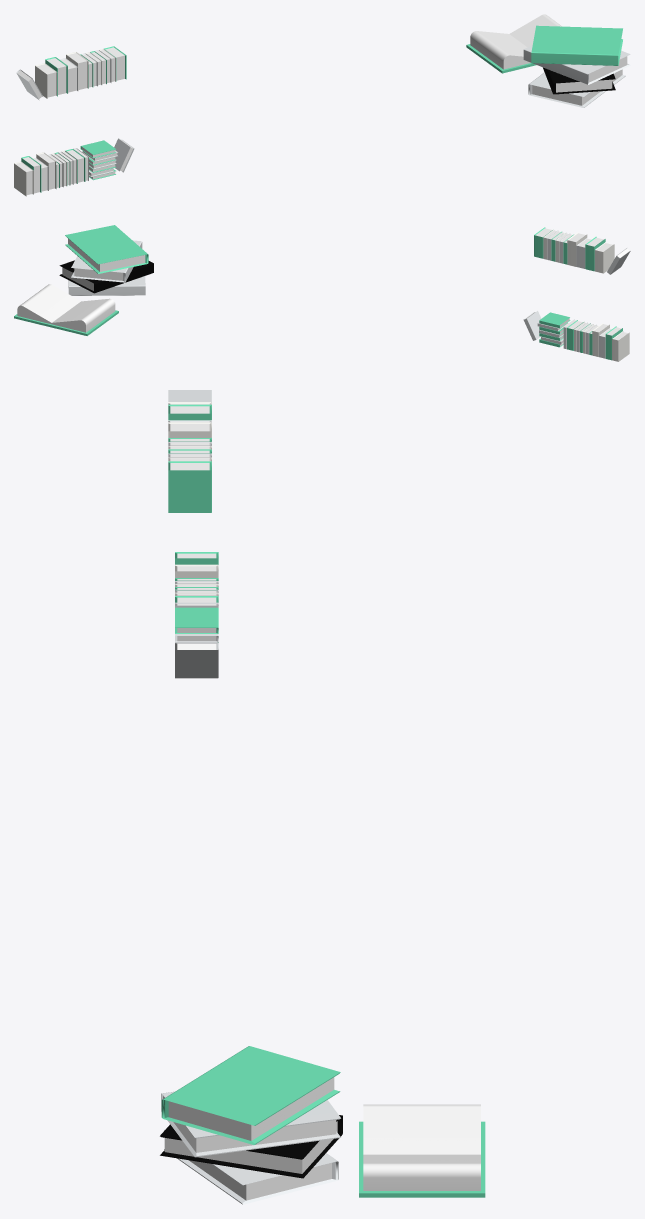
The model's file is books.fbx.
The picture shows the model from 3 angles, top to bottom: view 1: azimuth 30°, elevation 25°; view 2: azimuth 150°, elevation 25°; view 3: azimuth 270°, elevation 25°; orthographic projection. The views are drawn at different scales.
Visible parts, largest first — view 1: first_aid_kit44, pCube13, first_aid_kit43, first_aid_kit18, first_aid_kit42, first_aid_kit30, first_aid_kit49, first_aid_kit29, first_aid_kit27, first_aid_kit46, first_aid_kit62, first_aid_kit19 (+5 smaller); view 2: pCube13, first_aid_kit44, first_aid_kit42, first_aid_kit18, first_aid_kit43, first_aid_kit30, first_aid_kit49, first_aid_kit27, first_aid_kit29, first_aid_kit46, first_aid_kit62, first_aid_kit19 (+5 smaller); view 3: pCube13, first_aid_kit44, first_aid_kit42, first_aid_kit43, first_aid_kit18, first_aid_kit19, first_aid_kit46, first_aid_kit62.
Part boxes in pixels (x1=…): first_aid_kit44: x1=531, y1=25, x2=622, y2=65; pCube13: x1=466, y1=14, x2=561, y2=73; first_aid_kit43: x1=523, y1=45, x2=630, y2=84; first_aid_kit18: x1=528, y1=69, x2=625, y2=107; first_aid_kit42: x1=543, y1=67, x2=615, y2=94; first_aid_kit30: x1=35, y1=63, x2=57, y2=98; first_aid_kit49: x1=14, y1=161, x2=33, y2=196; first_aid_kit29: x1=45, y1=57, x2=67, y2=96; first_aid_kit27: x1=66, y1=52, x2=88, y2=91; first_aid_kit46: x1=114, y1=138, x2=134, y2=172; first_aid_kit62: x1=80, y1=140, x2=116, y2=158; first_aid_kit19: x1=104, y1=46, x2=126, y2=81; pCube13: x1=14, y1=284, x2=118, y2=335; first_aid_kit44: x1=65, y1=225, x2=148, y2=273; first_aid_kit42: x1=59, y1=260, x2=153, y2=293; first_aid_kit18: x1=68, y1=276, x2=145, y2=295; first_aid_kit43: x1=71, y1=240, x2=142, y2=282; first_aid_kit30: x1=594, y1=242, x2=614, y2=273; first_aid_kit49: x1=612, y1=331, x2=629, y2=361; first_aid_kit27: x1=567, y1=232, x2=587, y2=266; first_aid_kit29: x1=585, y1=236, x2=605, y2=271; first_aid_kit46: x1=523, y1=311, x2=541, y2=340; first_aid_kit62: x1=539, y1=312, x2=570, y2=328; first_aid_kit19: x1=534, y1=227, x2=552, y2=258; pCube13: x1=359, y1=1104, x2=485, y2=1197; first_aid_kit44: x1=161, y1=1046, x2=340, y2=1144; first_aid_kit42: x1=160, y1=1115, x2=342, y2=1178; first_aid_kit43: x1=161, y1=1091, x2=340, y2=1157; first_aid_kit18: x1=164, y1=1129, x2=338, y2=1204; first_aid_kit19: x1=168, y1=461, x2=211, y2=512; first_aid_kit46: x1=175, y1=642, x2=218, y2=678; first_aid_kit62: x1=175, y1=607, x2=218, y2=633.
Bounding box in the file's own units: 20.19 × 5.2 × 5.22.
